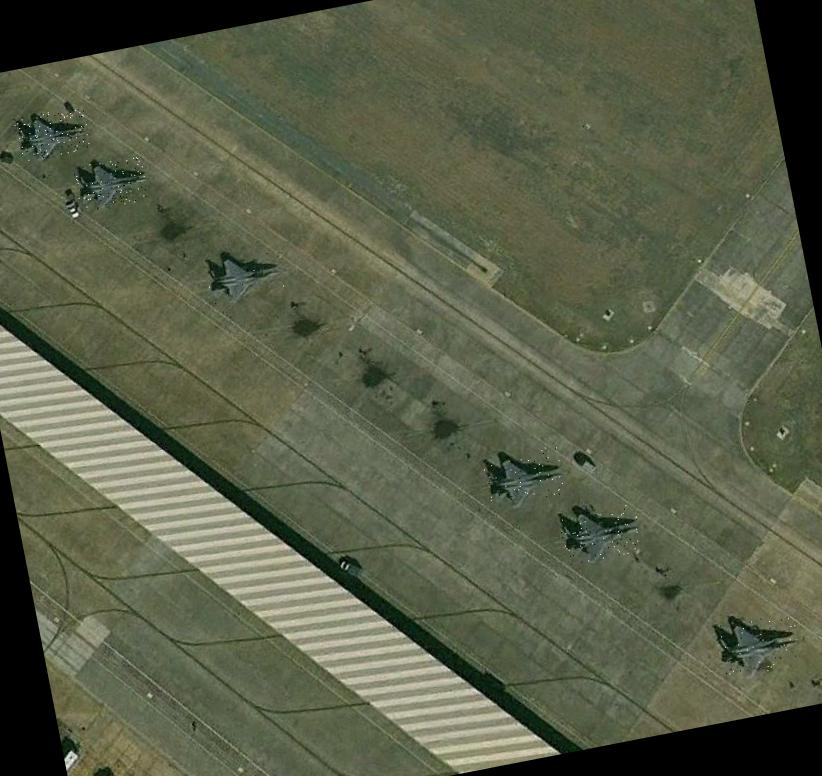A13: (712, 611, 803, 680), (482, 444, 566, 511), (559, 502, 644, 568), (203, 240, 287, 304), (72, 154, 150, 212), (14, 105, 92, 162)
